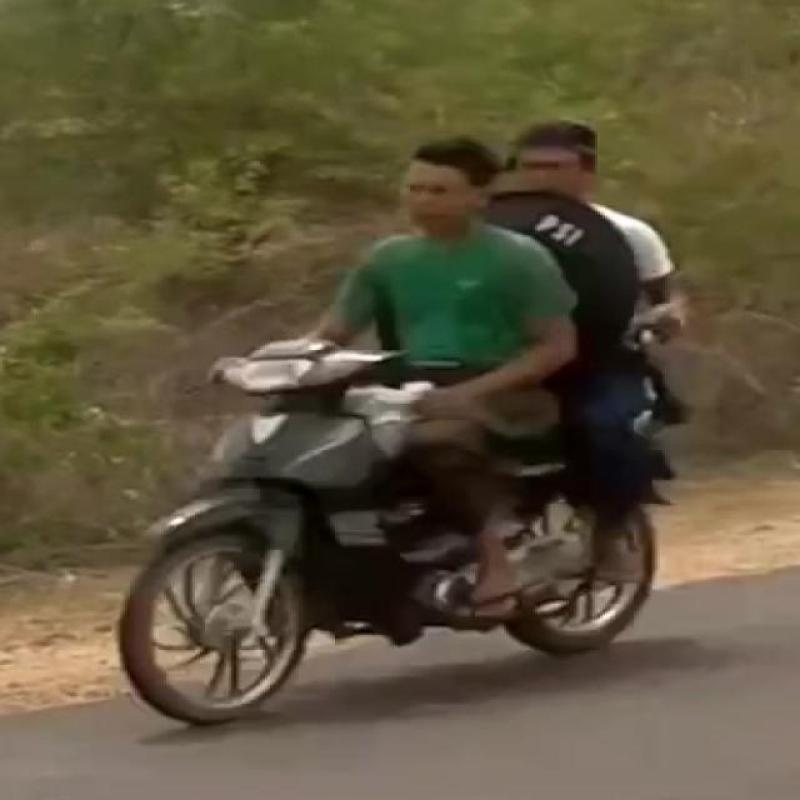nohelmet: (395, 130, 525, 254), (529, 102, 629, 196)
